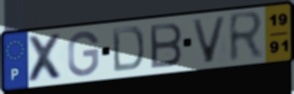B: (148, 21, 184, 71)
D: (110, 25, 146, 74)
G: (66, 30, 100, 78)
R: (227, 9, 266, 66)
V: (189, 15, 229, 65)
X: (26, 32, 66, 84)
